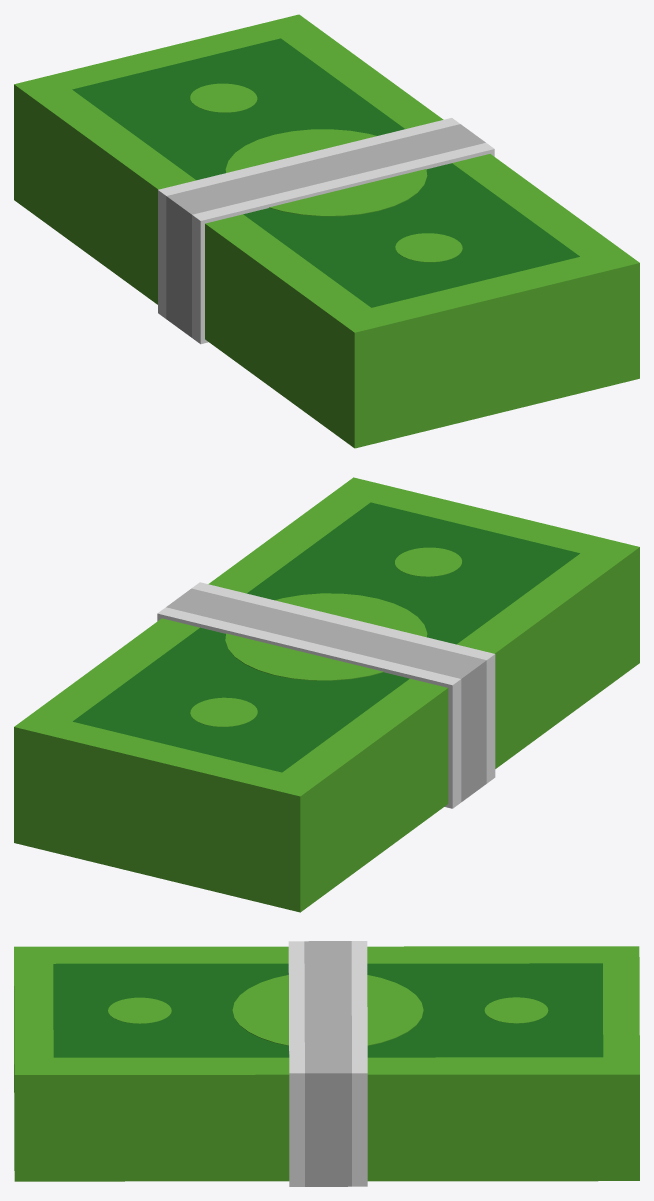
The model's file is Money 01.fbx.
3 views of the same model, one above another, from view 1: azimuth 30°, elevation 25°; view 2: azimuth 150°, elevation 25°; view 3: azimuth 270°, elevation 25° (orthographic). The views are drawn at different scales.
Parts seen in each view (by area): view 1: Money; view 2: Money; view 3: Money.
Boxes of the visible parts, bbox=[...] form: Money: bbox=[14, 14, 639, 448]; Money: bbox=[14, 477, 639, 912]; Money: bbox=[14, 941, 639, 1186].
Bounding box in the file's own units: 15 × 6 × 30.
